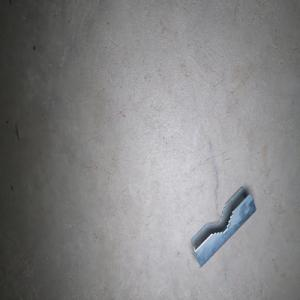ClampPart: (190, 185, 257, 269)
